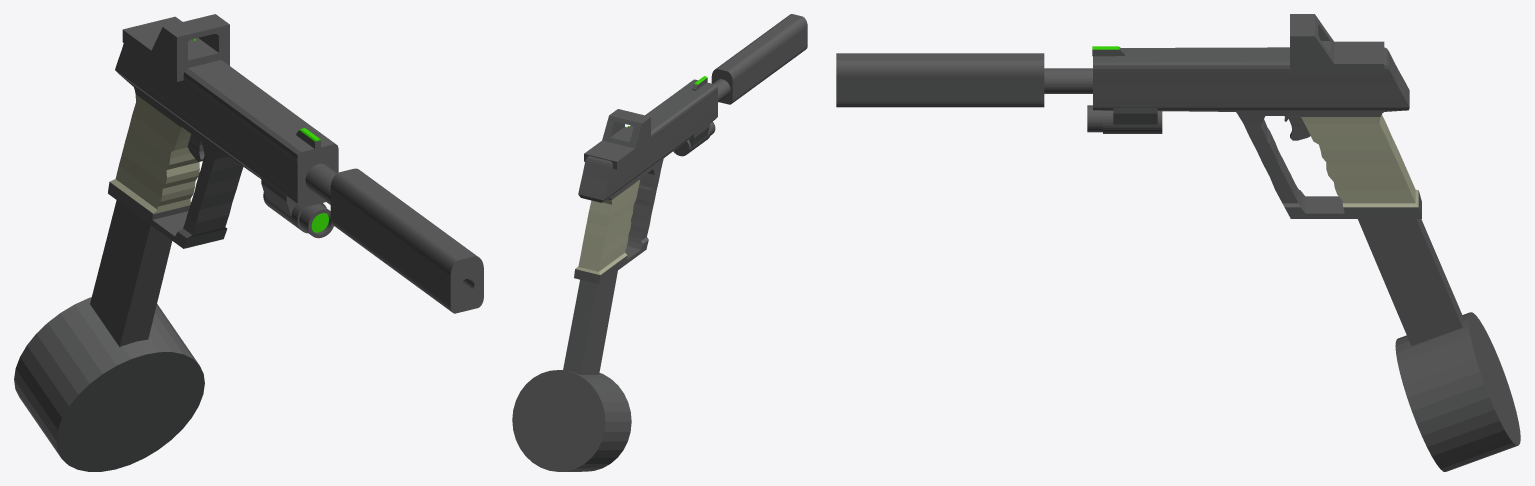
File: scifi.pistol.fbx
3 renders of one model, left to right at view 1: azimuth 30°, elevation 25°; view 2: azimuth 150°, elevation 25°; view 3: azimuth 270°, elevation 25°, orthographic. The views are drawn at different scales.
Visible parts, largest first — view 1: 50.round.drum, base, suppresor, sight, laser, barrel; view 2: 50.round.drum, base, suppresor, sight, laser; view 3: base, 50.round.drum, suppresor, sight, laser, barrel.
Boxes of the visible parts, box(x1,y1,x2,y2) form: 50.round.drum: box(14, 200, 204, 471); base: box(108, 43, 338, 248); suppresor: box(330, 168, 483, 313); sight: box(122, 14, 229, 81); laser: box(261, 177, 333, 238); barrel: box(305, 163, 336, 204); 50.round.drum: box(512, 271, 631, 471); base: box(574, 79, 717, 284); suppresor: box(711, 14, 807, 104); sight: box(584, 109, 650, 169); laser: box(673, 121, 715, 156); base: box(1093, 47, 1421, 218); 50.round.drum: box(1358, 219, 1520, 471); suppresor: box(836, 53, 1044, 107); sight: box(1290, 14, 1384, 74); laser: box(1087, 105, 1162, 133); barrel: box(1044, 68, 1092, 93).
Bounding box in the file's own units: 89.6 × 420 × 297.
